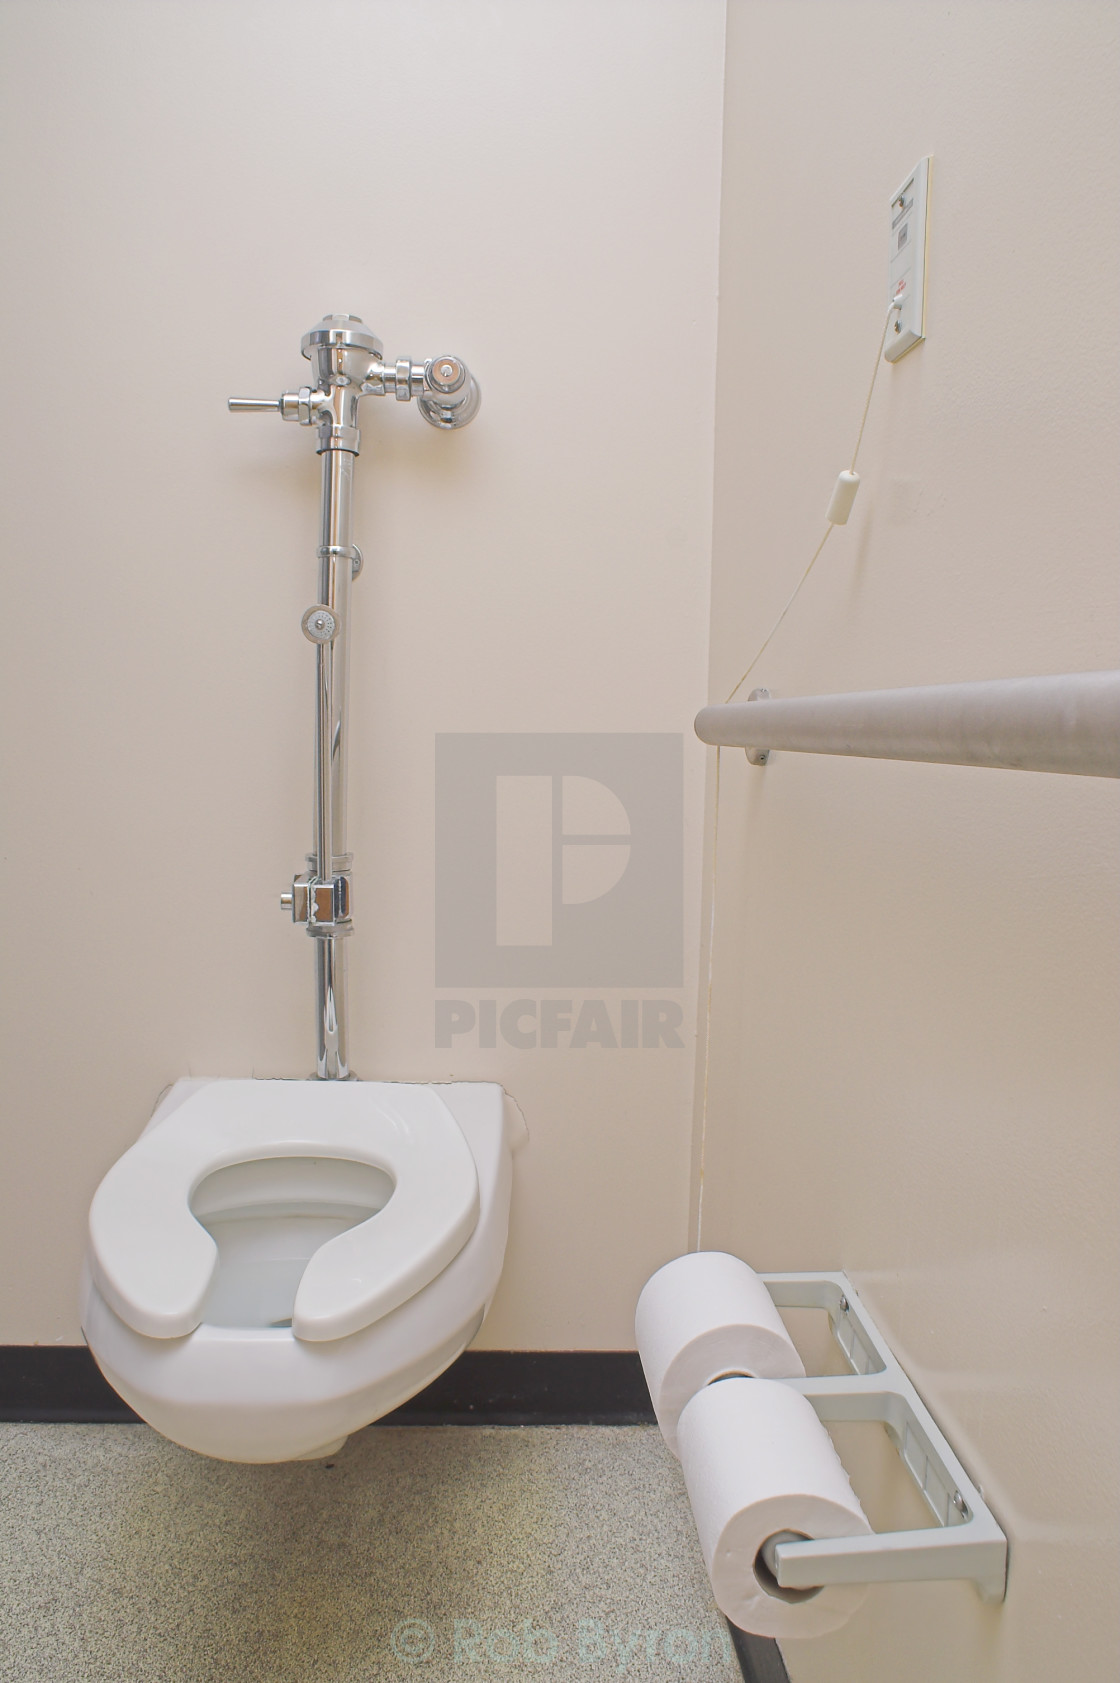dispenser: (637, 1246, 1012, 1616)
restroom_assist_bar: (689, 668, 1120, 790)
toilet: (82, 1070, 512, 1468)
toilet_handle: (229, 387, 315, 439)
